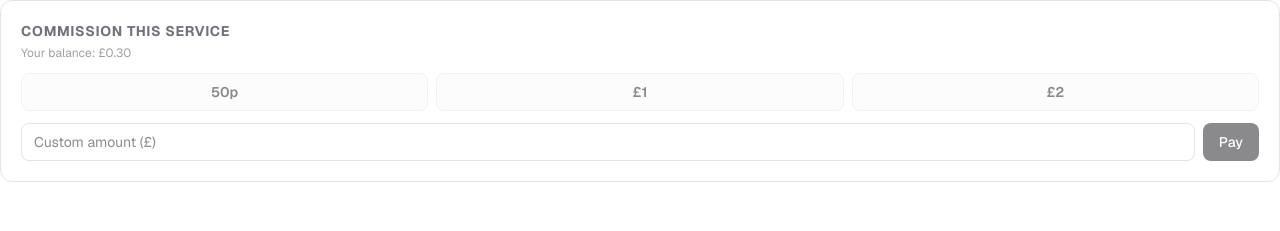
PayForm › shows insufficient funds error for custom amount over balance
// Preset buttons are disabled, use custom amount form
Type "1" into the number field with placeholder "Custom amount (£)".
click(608, 142); type("1")  # box 21,123 -> 1195,161
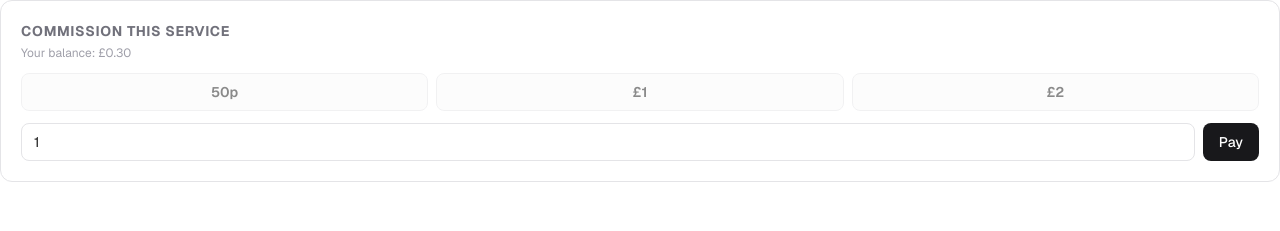
Submit the form with placeholder "Custom amount (£)", box 21,123 -> 1259,161
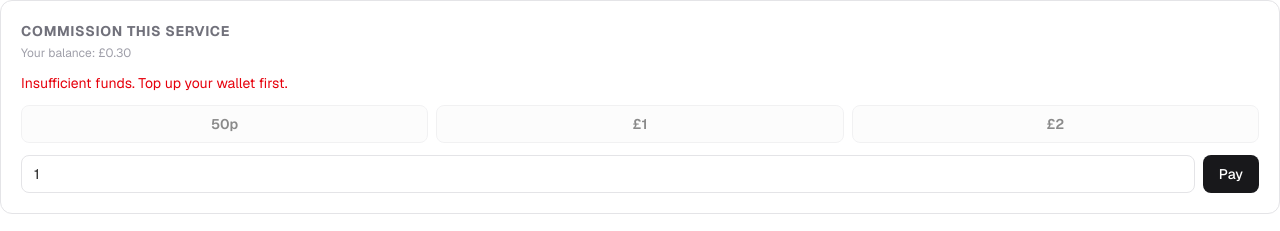
Now the text "Insufficient funds. Top up your wallet first." is shown, box 21,74 -> 288,92
